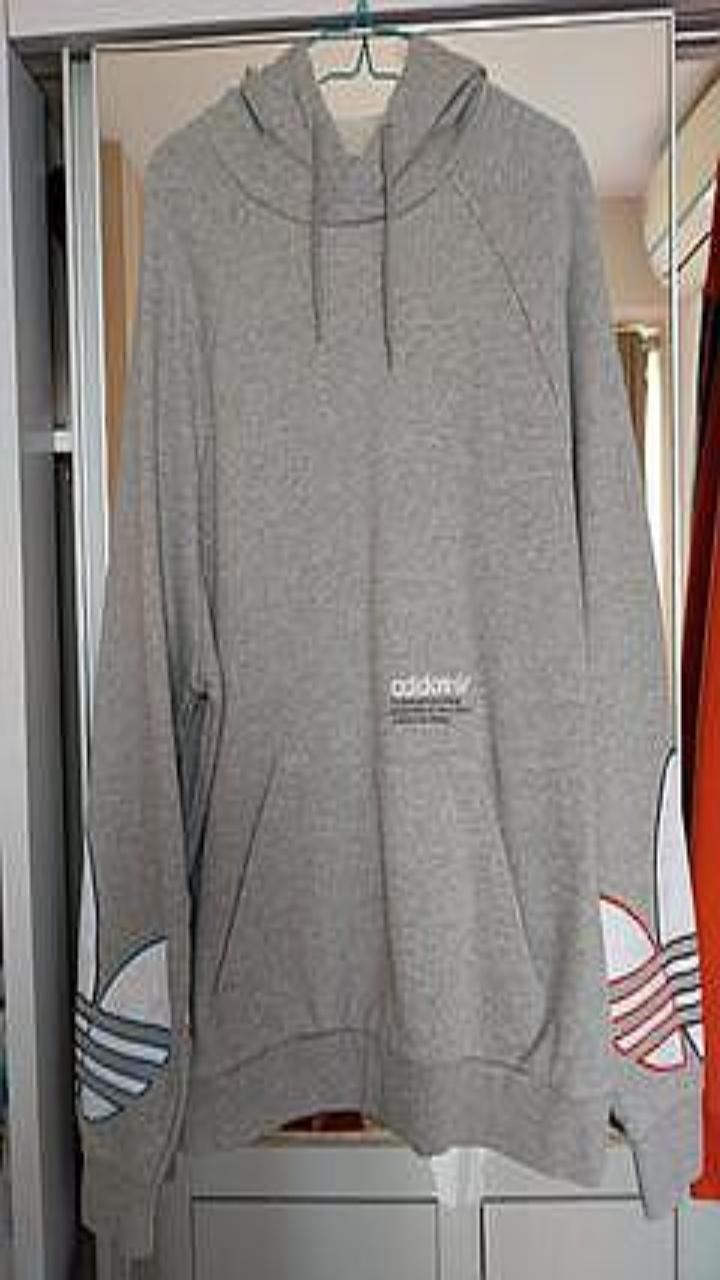Hoodie: (76, 35, 701, 1255)
